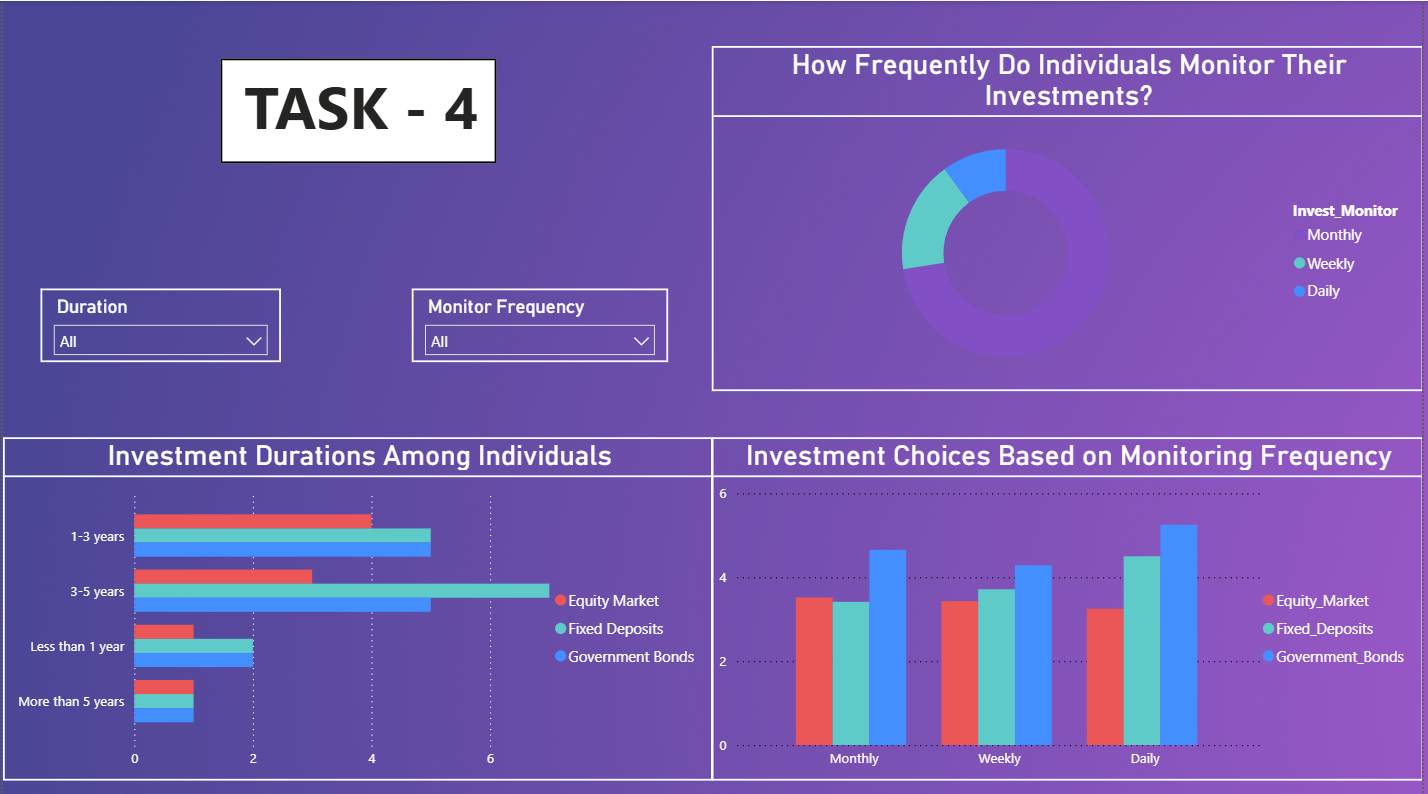

What the dashboard file says about the page in this screenshot:
{"tool":"powerbi","page":{"name":"Task 4","canvas":[1280,720],"ordinal":3},"visuals":[{"type":"clusteredColumnChart","title":"Investment Choices Based on Monitoring Frequency","fields":{"Category":["Data_set 2.Invest_Monitor"],"Y":["Avg(Data_set 2.Equity_Market)","Avg(Data_set 2.Fixed_Deposits)","Avg(Data_set 2.Government_Bonds)"]},"box":[639.1,393.4,641.3,310],"z":0},{"type":"clusteredBarChart","title":"Investment Durations Among Individuals","fields":{"Category":["Data_set 2.Duration"],"Y":["Count(Data_set 2.Equity_Market)","Count(Data_set 2.Fixed_Deposits)","Count(Data_set 2.Government_Bonds)"]},"box":[0,393.4,640.2,310],"z":1000},{"type":"donutChart","title":"How Frequently Do Individuals Monitor Their Investments?","fields":{"Category":["Data_set 2.Invest_Monitor"],"Y":["CountNonNull(Data_set 2.Invest_Monitor)"]},"box":[639.1,40.6,641.3,311.1],"z":2000},{"type":"slicer","fields":{"Values":["Data_set 2.Invest_Monitor"]},"box":[368.6,259.2,231.1,66.5],"z":3000},{"type":"slicer","fields":{"Values":["Data_set 2.Duration"]},"box":[33.8,259.2,216.4,66.5],"z":4000},{"type":"textbox","box":[195.7,51.4,248.6,94.3],"z":5000}]}

Visuals, with their boxes in screenshot pixels (x1, y1, x2, y2), scaled from the page's 1280x720 canvas onto the 1428x794 screenshot:
"Investment Choices Based on Monitoring Frequency" clusteredColumnChart: left=713, top=434, right=1427, bottom=776
"Investment Durations Among Individuals" clusteredBarChart: left=0, top=434, right=714, bottom=776
"How Frequently Do Individuals Monitor Their Investments?" donutChart: left=713, top=45, right=1427, bottom=388
slicer - Data_set 2.Invest_Monitor: left=411, top=286, right=669, bottom=359
slicer - Data_set 2.Duration: left=38, top=286, right=279, bottom=359
textbox: left=218, top=57, right=496, bottom=161
